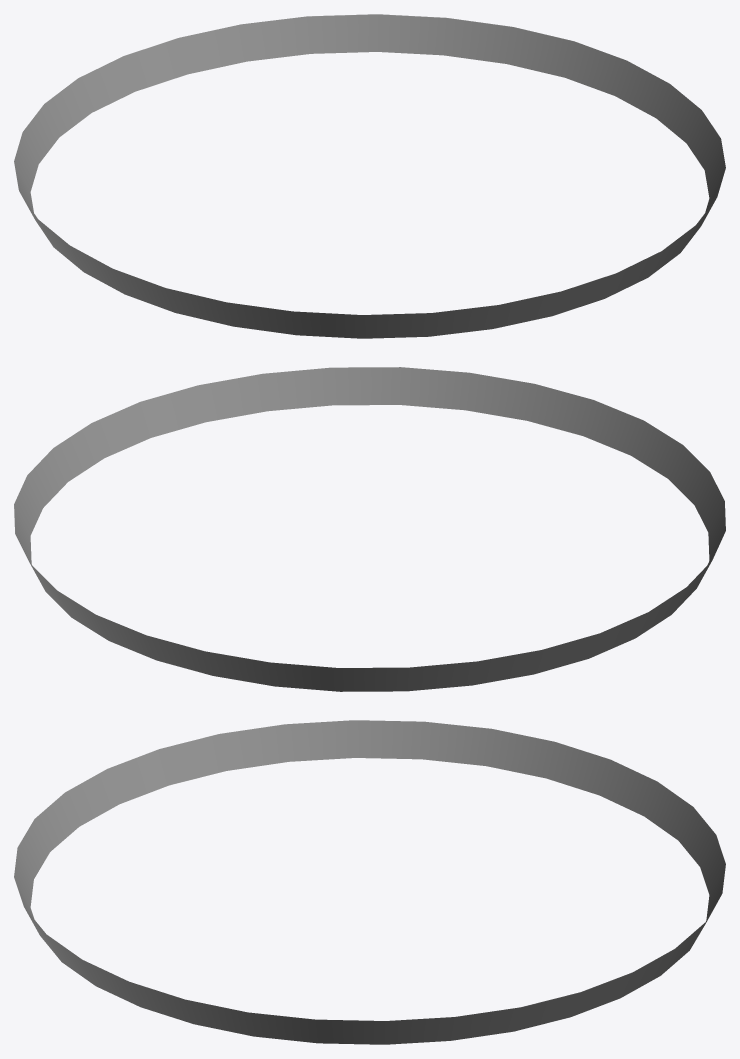
Rendered from World_Horizon_002.fbx.
3 views of the same model, one above another, from view 1: azimuth 30°, elevation 25°; view 2: azimuth 150°, elevation 25°; view 3: azimuth 270°, elevation 25° (orthographic).
Visible parts, largest first — view 1: World_Horizon_002; view 2: World_Horizon_002; view 3: World_Horizon_002.
Boxes of the visible parts, x1,y1,x2,y2 form: World_Horizon_002: (14,14,725,338); World_Horizon_002: (14,367,725,691); World_Horizon_002: (14,720,725,1044).
Bounding box in the file's own units: 1769 × 84.33 × 1769.
